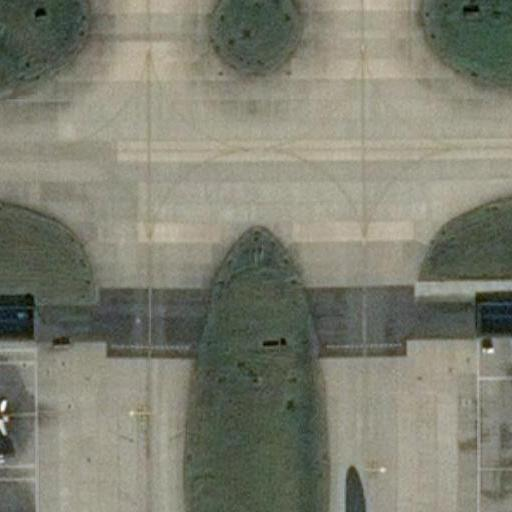Aircraft: (0, 367, 8, 466)
